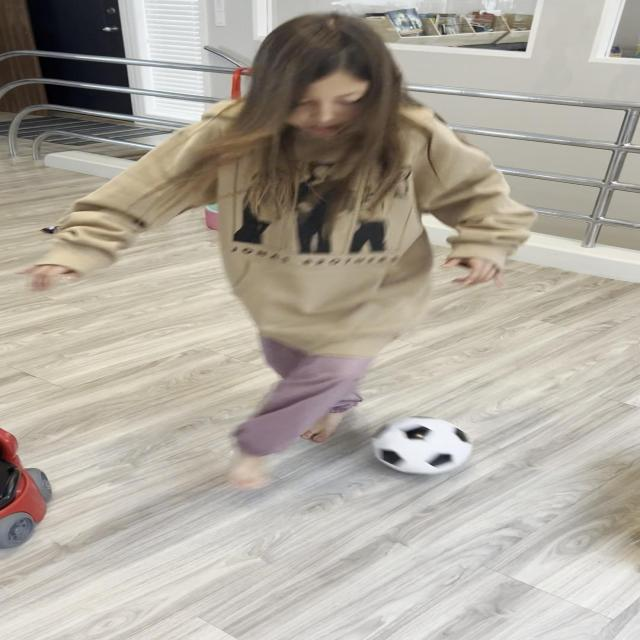Soccer Ball: (375, 417, 473, 474)
